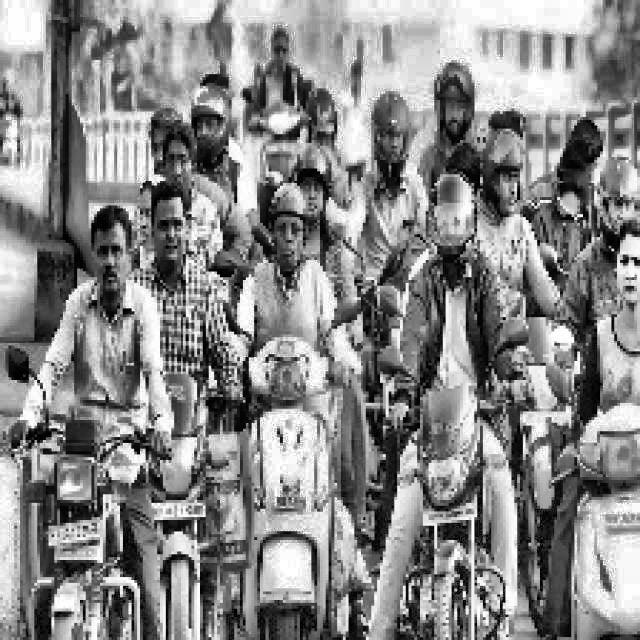motorcycle: (0, 343, 163, 640), (220, 303, 358, 640), (386, 329, 517, 640), (494, 279, 576, 601), (549, 390, 640, 640), (152, 312, 218, 633)
